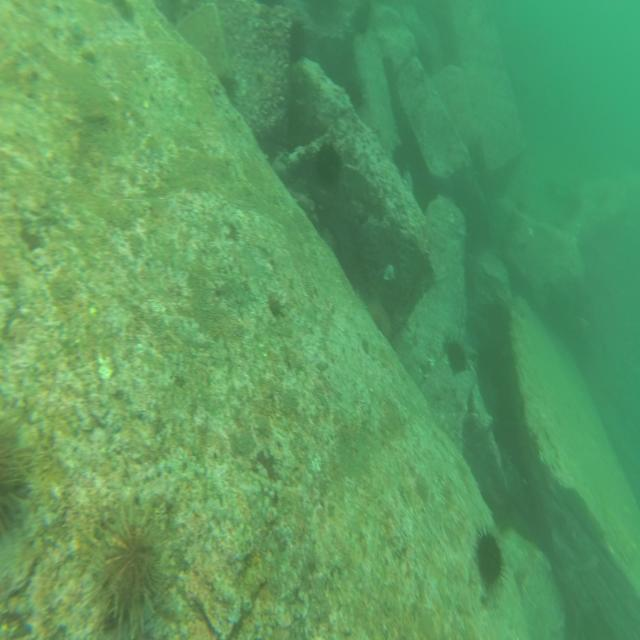echinus: (78, 500, 174, 632), (1, 417, 26, 528), (368, 247, 408, 307), (471, 530, 505, 591), (315, 138, 344, 190), (442, 332, 467, 376), (391, 138, 410, 184), (285, 18, 303, 62)
